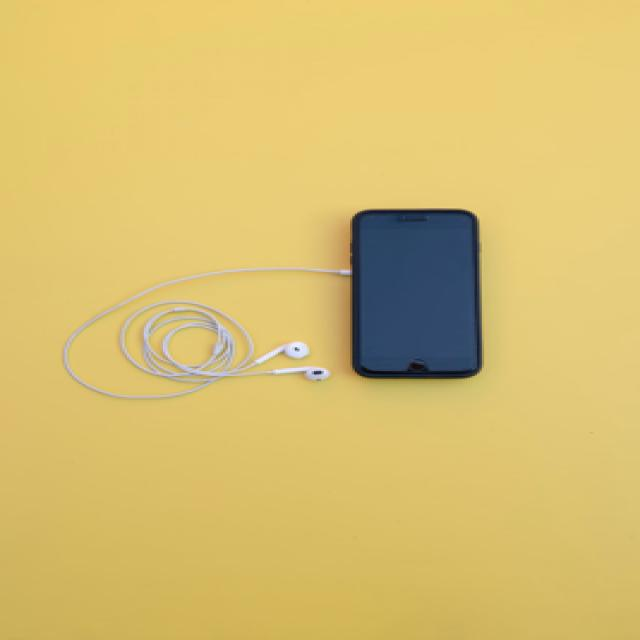cellphone: (348, 206, 482, 378)
